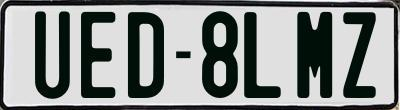8: (201, 11, 238, 99)
D: (127, 11, 163, 99)
E: (79, 10, 116, 102)
L: (241, 11, 283, 102)
M: (294, 12, 329, 98)
U: (34, 8, 70, 100)
Z: (342, 10, 378, 99)
